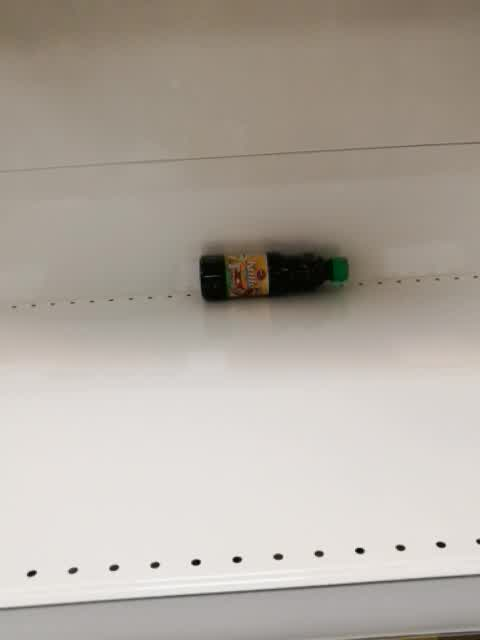cookingoil: (196, 250, 352, 303)
